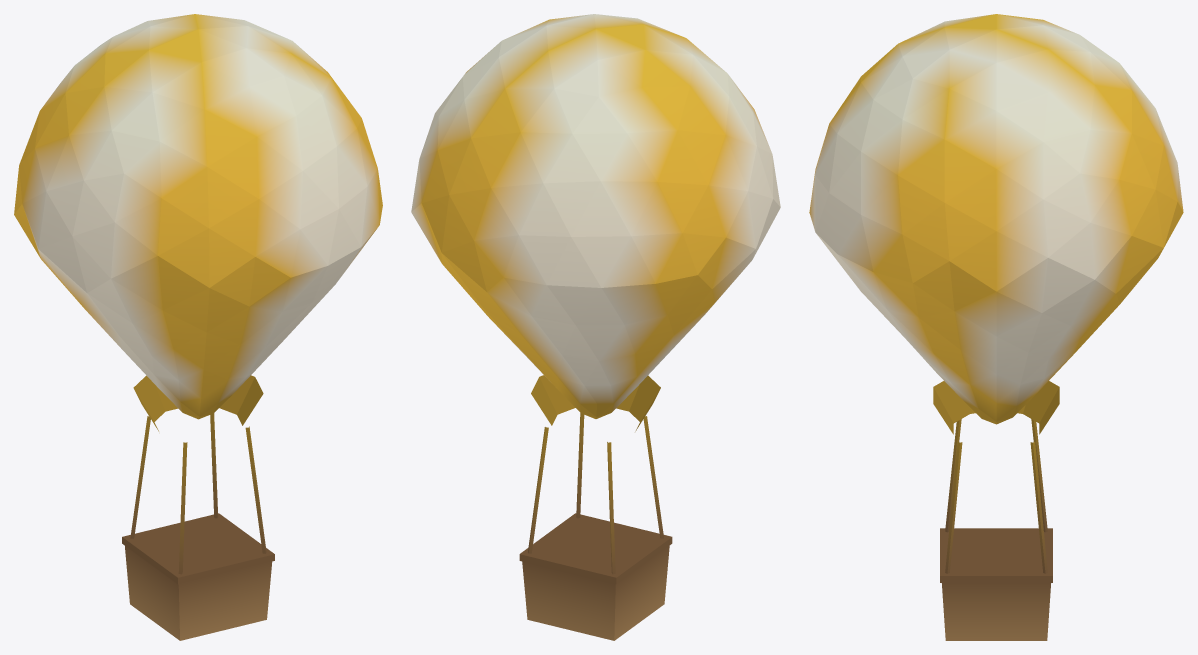
File: balloon_0.glb
The picture shows the model from 3 angles, left to right: view 1: azimuth 30°, elevation 25°; view 2: azimuth 150°, elevation 25°; view 3: azimuth 270°, elevation 25°; orthographic projection.
Visible parts, largest first — view 1: balloon_0; view 2: balloon_0; view 3: balloon_0.
Boxes of the visible parts, bbox=[...] form: balloon_0: bbox=[14, 14, 382, 640]; balloon_0: bbox=[411, 14, 780, 640]; balloon_0: bbox=[809, 14, 1183, 640].
Bounding box in the file's own units: 3.5 × 6.09 × 3.5.
